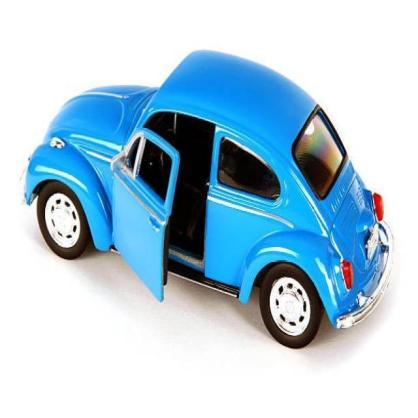car: (25, 48, 398, 352)
